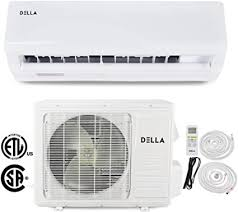ac: (4, 2, 231, 85)
